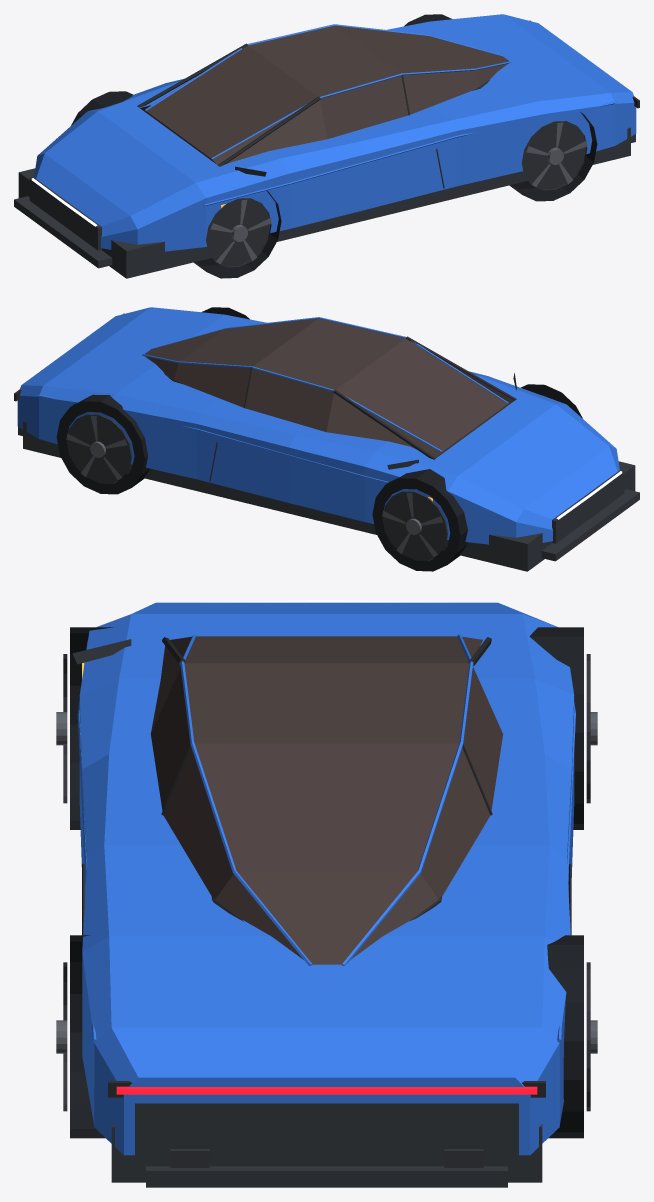
File: roadster_03_blue.glb
The picture shows the model from 3 angles, top to bottom: view 1: azimuth 30°, elevation 25°; view 2: azimuth 150°, elevation 25°; view 3: azimuth 270°, elevation 25°; orthographic projection. The views are drawn at different scales.
Visible parts, largest first — view 1: Web mesh - Ano White satin.007, Smoked panoramic canopy, Web mesh - Graphite lower aero.007, Web mesh - Hub center.007, Web mesh - Tire rubber.007, Web mesh - Wheel dark alloy.007, Web mesh - Dark window trim.007; view 2: Web mesh - Ano White satin.007, Smoked panoramic canopy, Web mesh - Graphite lower aero.007, Web mesh - Tire rubber.007, Web mesh - Hub center.007, Web mesh - Wheel dark alloy.007, Web mesh - Dark window trim.007; view 3: Web mesh - Ano White satin.007, Smoked panoramic canopy, Web mesh - Graphite lower aero.007, Web mesh - Tire rubber.007, Web mesh - Hub center.007, Web mesh - Rear light red.007, Web mesh - Dark window trim.007, Web mesh - Wheel dark alloy.007.
Part boxes in pixels (<box>): Web mesh - Ano White satin.007: <box>34,14,636,251</box>; Smoked panoramic canopy: <box>140,25,508,164</box>; Web mesh - Graphite lower aero.007: <box>14,127,635,278</box>; Web mesh - Hub center.007: <box>206,121,587,267</box>; Web mesh - Tire rubber.007: <box>71,14,597,278</box>; Web mesh - Wheel dark alloy.007: <box>210,122,587,264</box>; Web mesh - Dark window trim.007: <box>137,20,639,166</box>; Web mesh - Ano White satin.007: <box>17,307,619,544</box>; Smoked panoramic canopy: <box>145,318,514,457</box>; Web mesh - Graphite lower aero.007: <box>18,373,639,571</box>; Web mesh - Tire rubber.007: <box>56,307,582,571</box>; Web mesh - Hub center.007: <box>66,395,556,560</box>; Web mesh - Wheel dark alloy.007: <box>66,395,544,557</box>; Web mesh - Dark window trim.007: <box>14,313,516,459</box>; Web mesh - Ano White satin.007: <box>77,602,575,1155</box>; Smoked panoramic canopy: <box>150,636,503,964</box>; Web mesh - Graphite lower aero.007: <box>72,639,571,1187</box>; Web mesh - Tire rubber.007: <box>70,627,583,1138</box>; Web mesh - Hub center.007: <box>63,654,590,1167</box>; Web mesh - Rear light red.007: <box>116,1086,537,1094</box>; Web mesh - Dark window trim.007: <box>108,637,545,1097</box>; Web mesh - Wheel dark alloy.007: <box>56,712,597,1053</box>.
Size of the model in its own units: 5.05 by 1.21 by 2.21.
